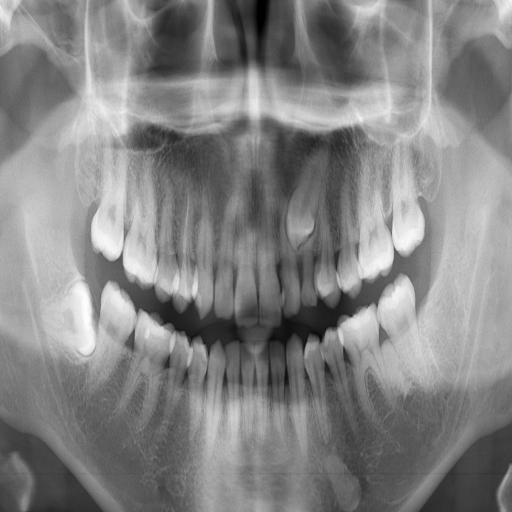Wisdom teeth: (41, 281, 96, 355)
